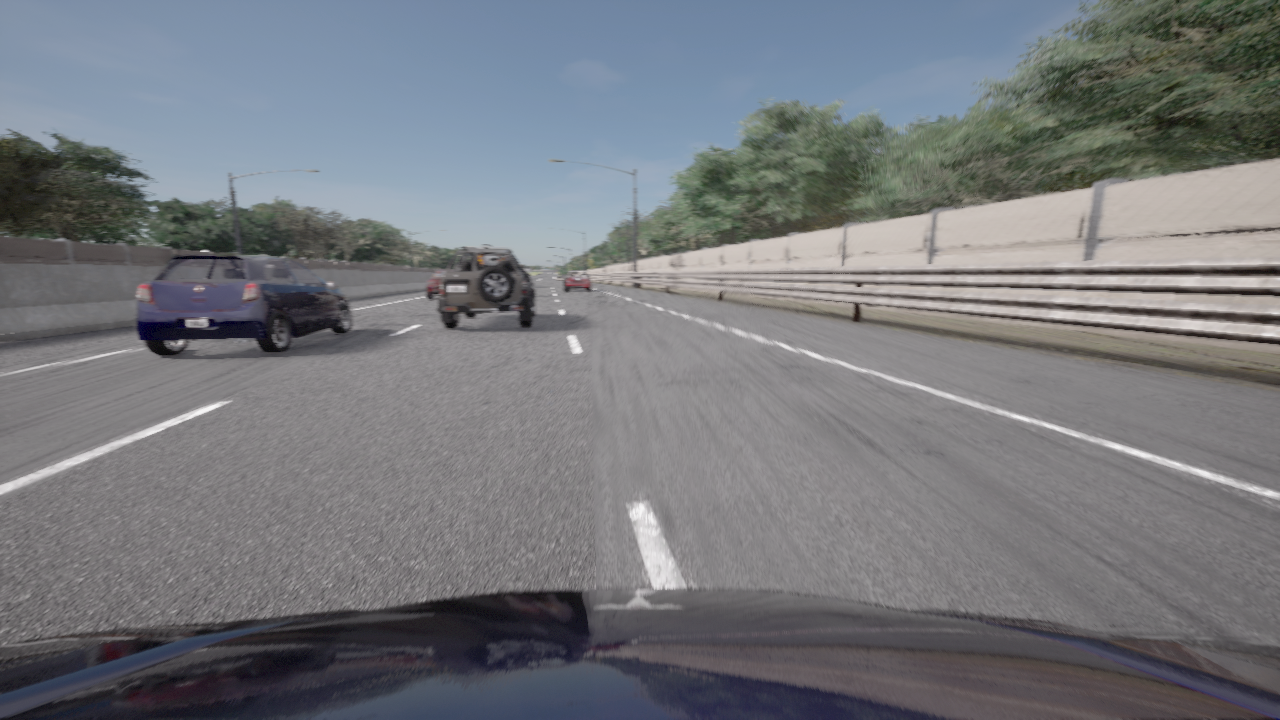cyclist: (0, 588, 1279, 719), (136, 255, 351, 355), (436, 246, 534, 327), (426, 269, 445, 298), (563, 271, 590, 290), (481, 244, 492, 246)
